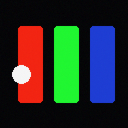2 circle: (12, 65, 30, 83)
